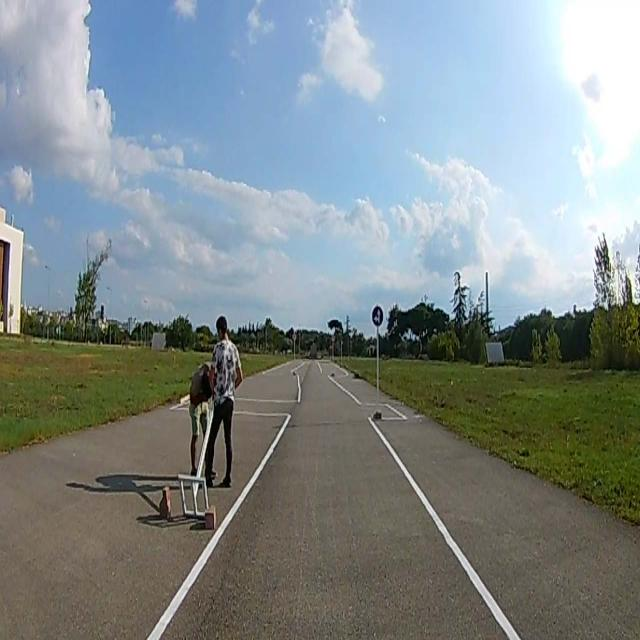ilerisol: (372, 304, 383, 325)
